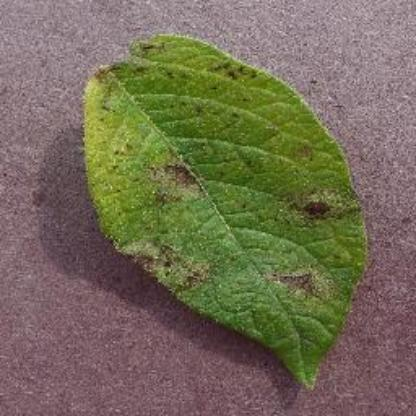Late-Blight: (55, 27, 393, 376)
